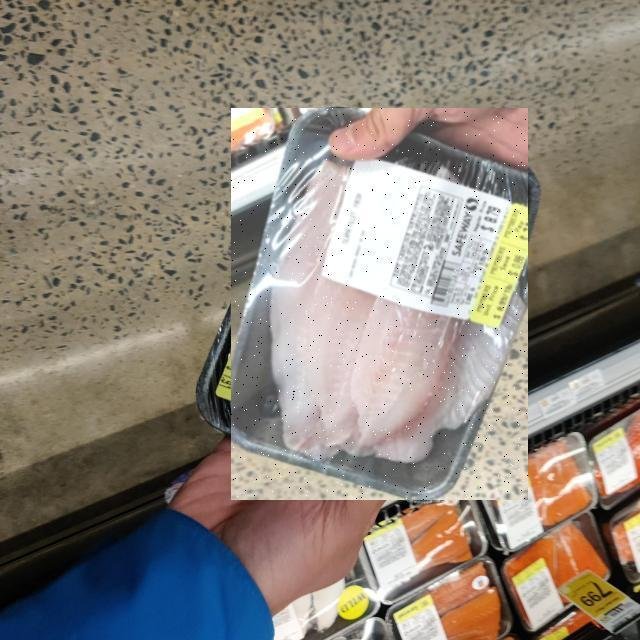Fish: (231, 109, 528, 501)
